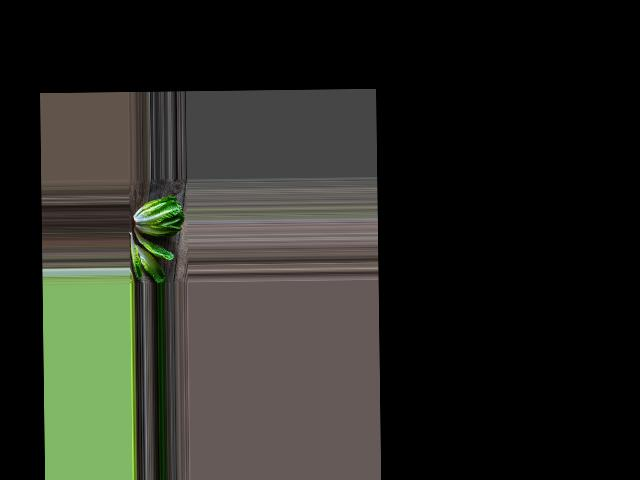lettuce: (134, 194, 183, 239)
